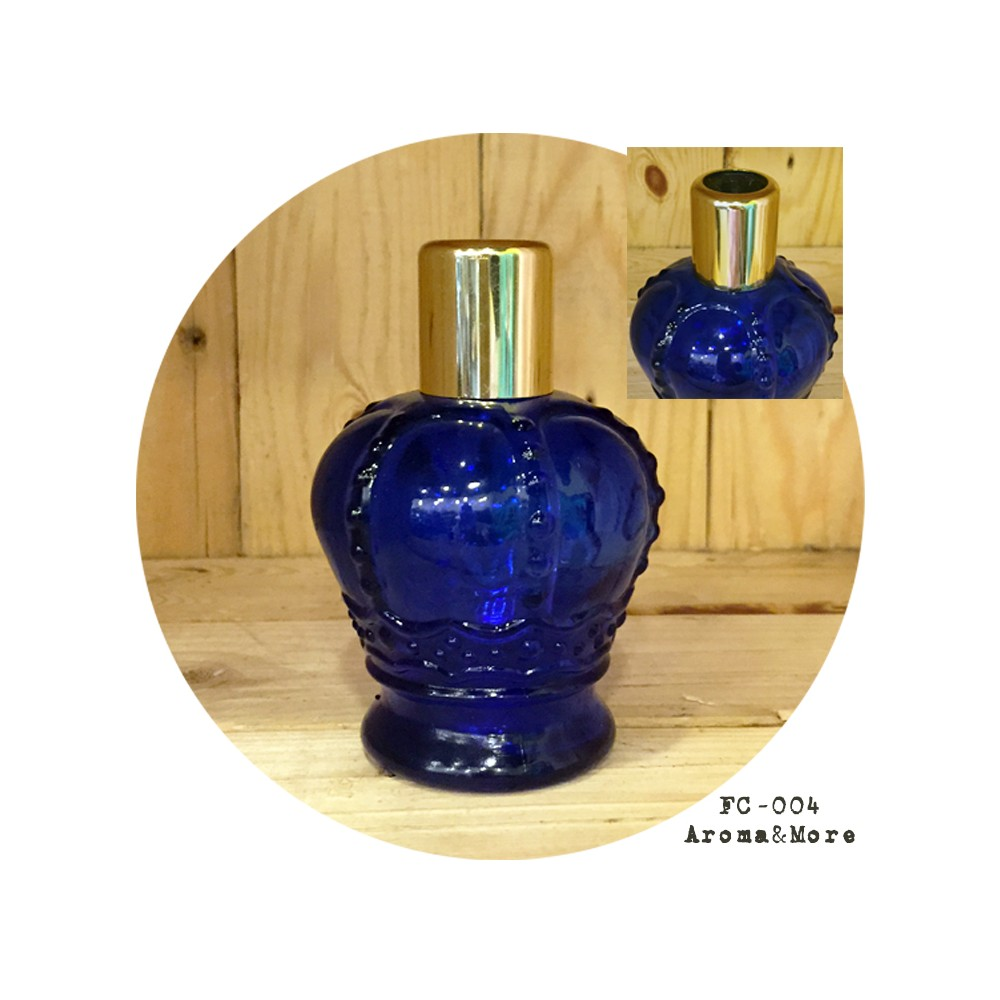glass_bottleww: (290, 177, 691, 870), (598, 84, 874, 534)
